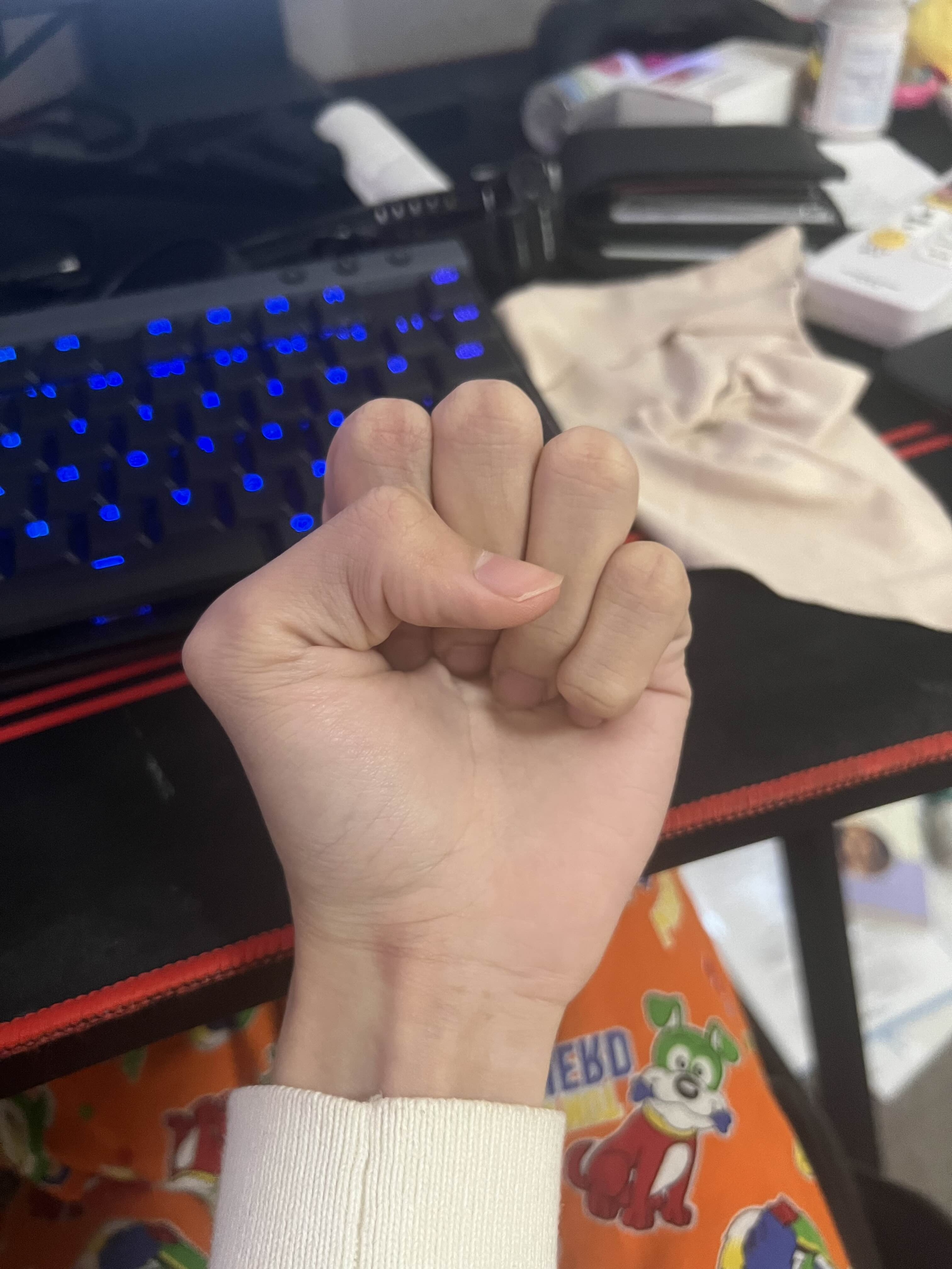right_closed_palm: (264, 418, 652, 946)
